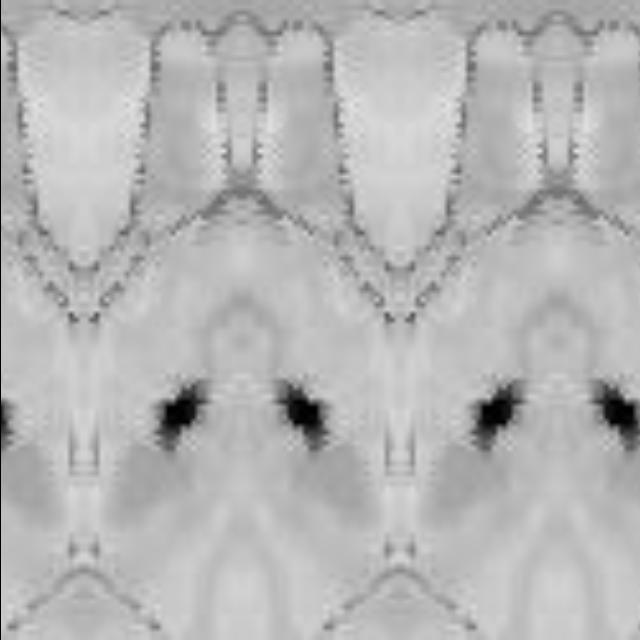good_void: (462, 367, 531, 460), (267, 367, 335, 460), (145, 367, 213, 460), (584, 367, 640, 460), (0, 385, 18, 460)
